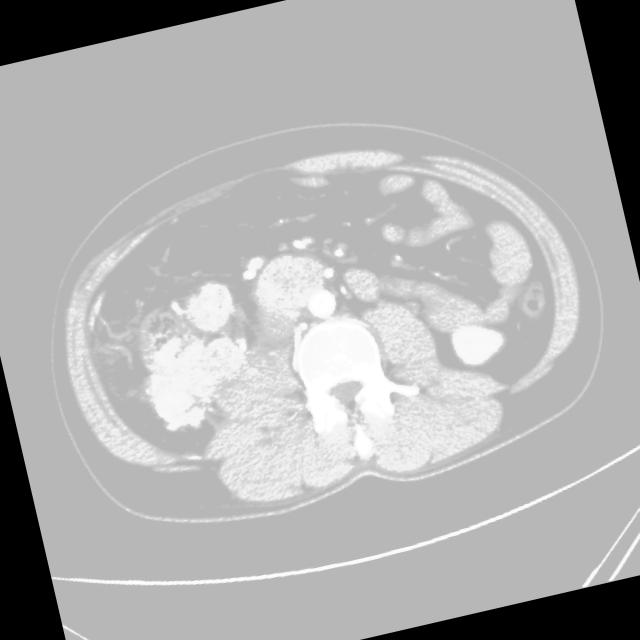TUMOR: (101, 132, 541, 446)
